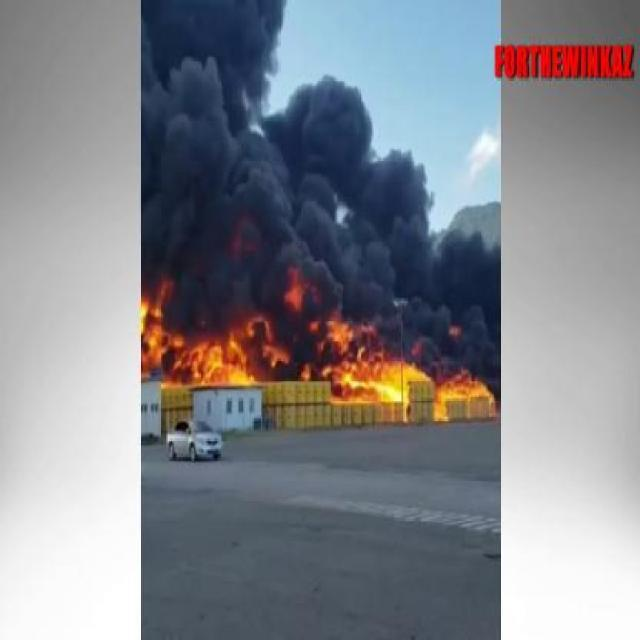Fire: (144, 308, 266, 387), (327, 348, 493, 399)
